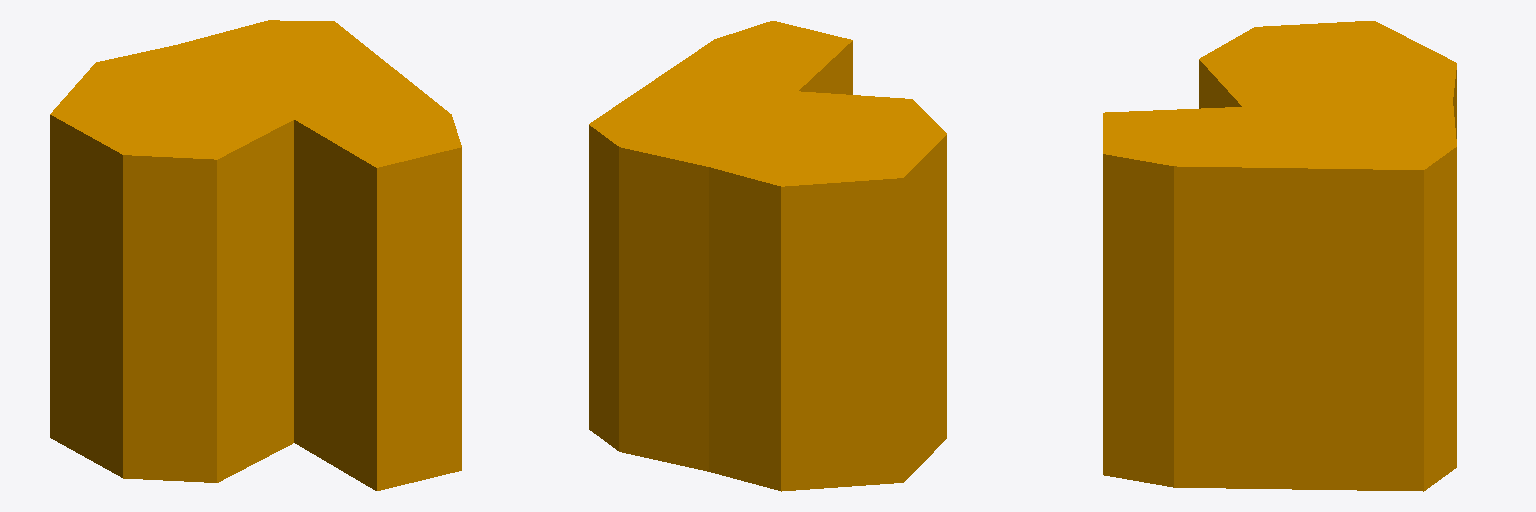
robot.urdf — object:
<?xml version="1.0"?>
<robot name="object">
  <link name="object">
    <visual>
      <origin xyz="0 0 0"/>
      <geometry>
        <mesh filename="meshes/polygon/poly_11_s.obj" scale=".03 .03 .03"/>
      </geometry>
    </visual>
    <collision>
  <origin xyz="0 0 0"/>
  <geometry>
    <mesh filename="meshes/polygon/poly_11_s_0decompose.obj" scale=".03 .03 .03"/>
<!--          <mesh filename="meshes/custom/obj0_ball.obj" scale=".05 .05 .05"/>-->
  </geometry>
</collision>

<!--    <collision>-->
<!--      <origin xyz="0 0 0"/>-->
<!--      <geometry>-->
<!--        <mesh filename="meshes/polygon/poly_11_s.obj" scale=".03 .03 .03"/>-->
<!--&lt;!&ndash;          <mesh filename="meshes/custom/obj0_ball.obj" scale=".05 .05 .05"/>&ndash;&gt;-->
<!--      </geometry>-->
<!--    </collision>-->
    <inertial>
      <density value="1000.0"/>
    </inertial>
  </link>
</robot>

--- What the picture shows (computed from the rendered views, not written in the file) ---
The picture shows the robot from 3 angles, left to right: view 1: azimuth 30°, elevation 25°; view 2: azimuth 150°, elevation 25°; view 3: azimuth 270°, elevation 25°; orthographic projection.
Model object with 1 links and 0 joints (none), rooted at object, posed all joints at 0.
Links seen in each view (by area): view 1: object; view 2: object; view 3: object.
Link boxes in pixels (bbox=[...]): object: bbox=[50, 20, 461, 490]; object: bbox=[589, 21, 946, 491]; object: bbox=[1103, 21, 1456, 491].
Bounding box of the posed robot: 0.06 × 0.06 × 0.06 m (x, y, z).
1 mesh visuals loaded from 1 distinct referenced files (1 OBJ).
